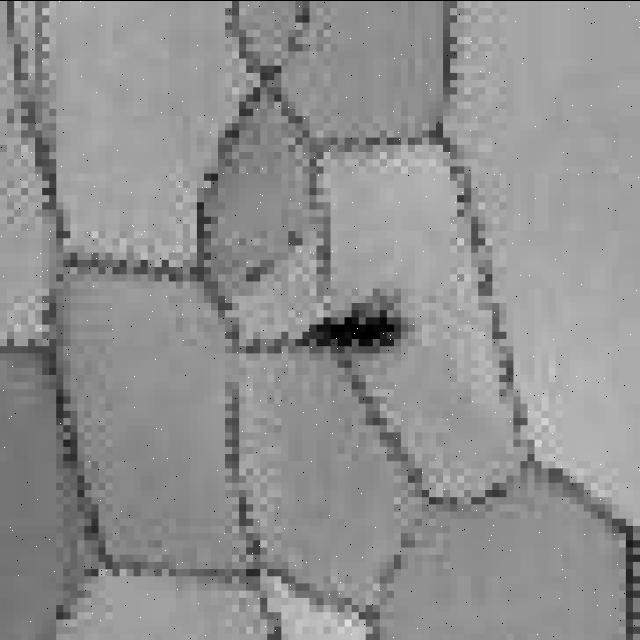good_void: (284, 307, 408, 357), (235, 251, 274, 293), (282, 229, 306, 251)
